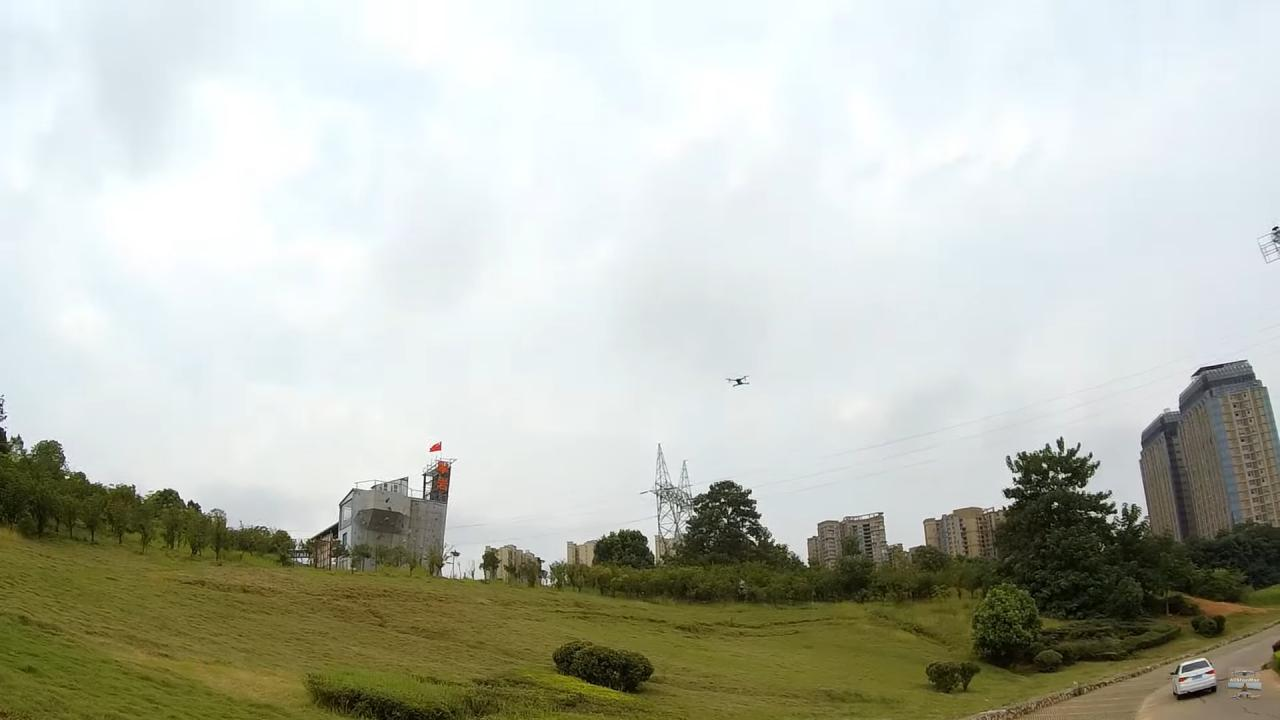Drone: (721, 369, 755, 394)
